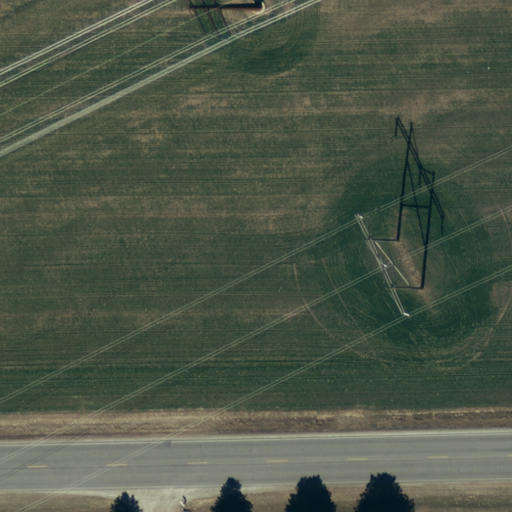TT: (347, 209, 431, 322), (183, 2, 269, 40)
